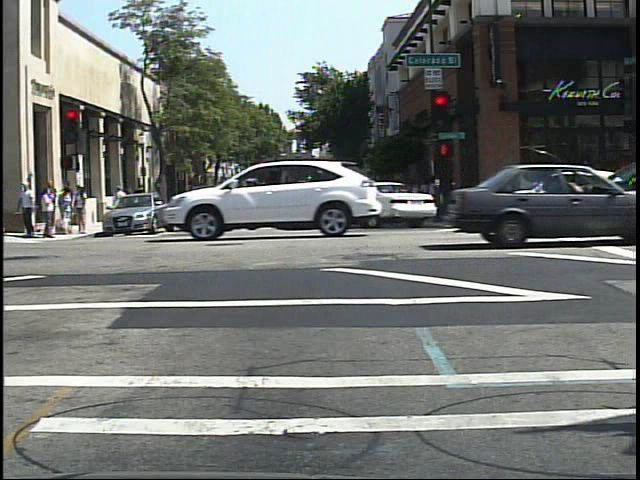person: (110, 181, 130, 225)
